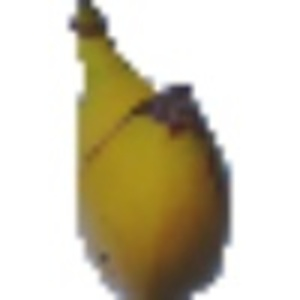banana: (59, 3, 235, 296)
